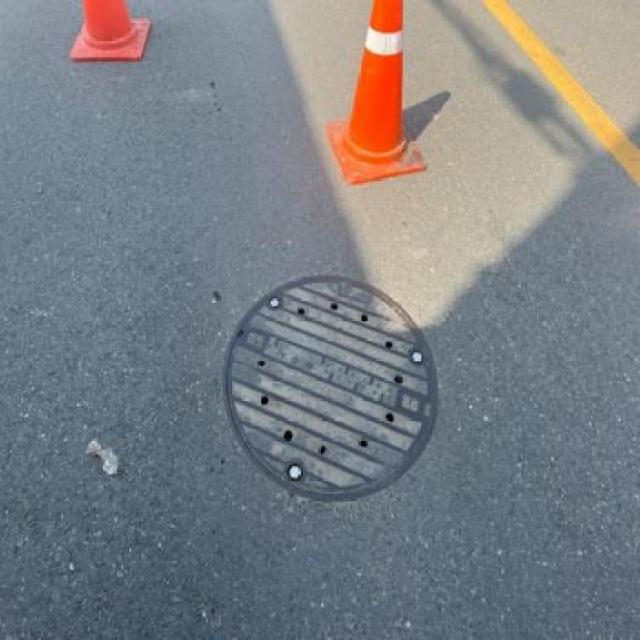Sewer Cover: (204, 251, 464, 513)
